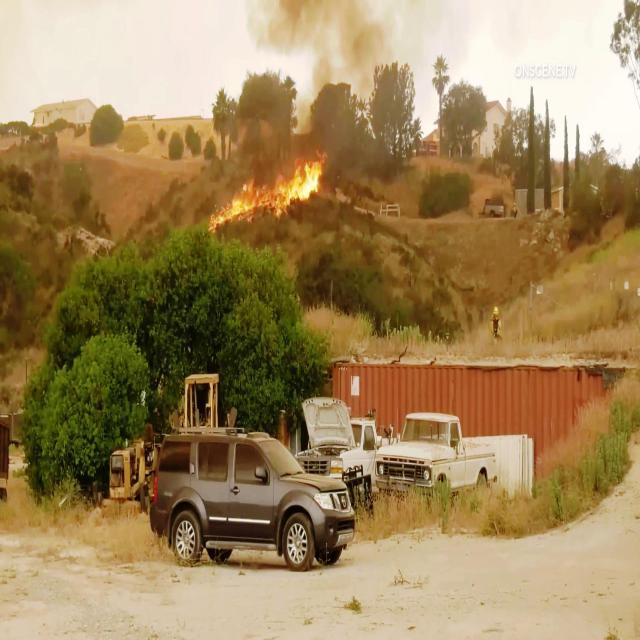Fire: (208, 150, 328, 230)
Smoke: (248, 0, 396, 86)
